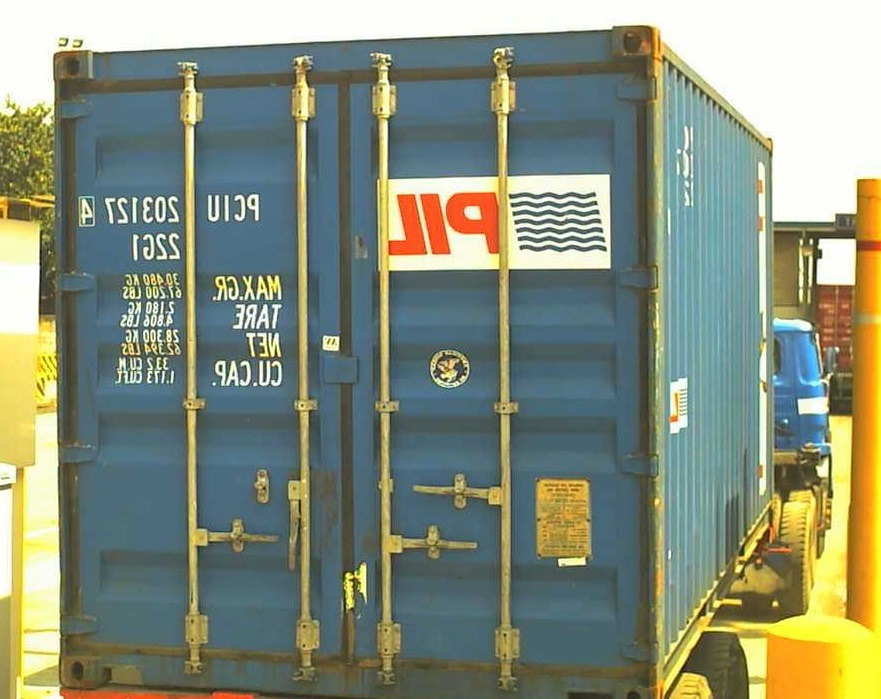container_door: (42, 23, 658, 698)
